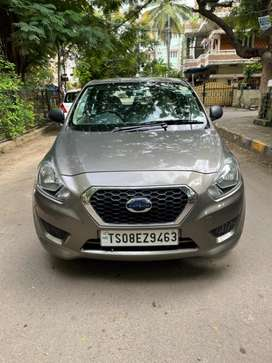TS08EZ9463: (100, 229, 178, 247)
